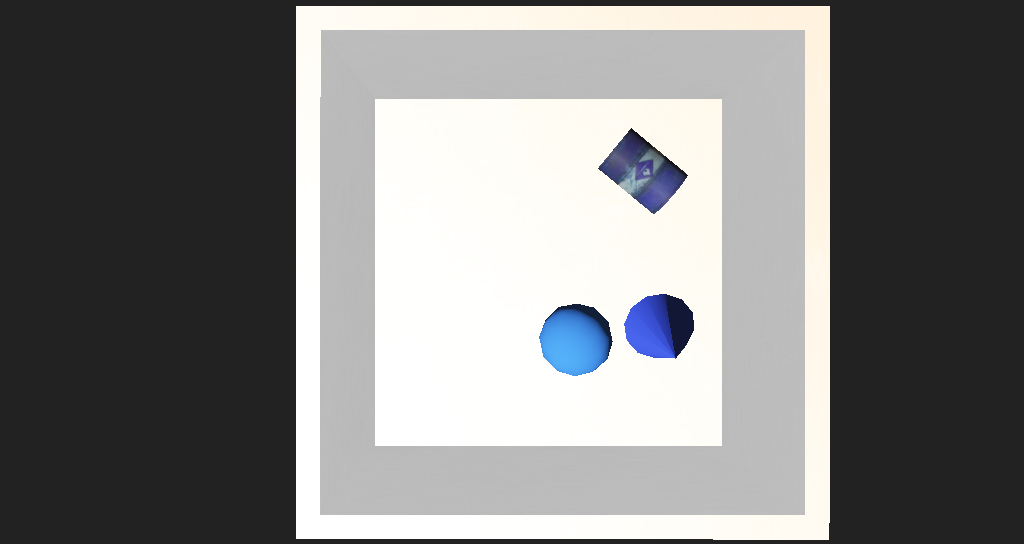cone: (546, 177, 627, 234)
cylinder: (576, 284, 650, 346)
sphere: (502, 289, 563, 332)
